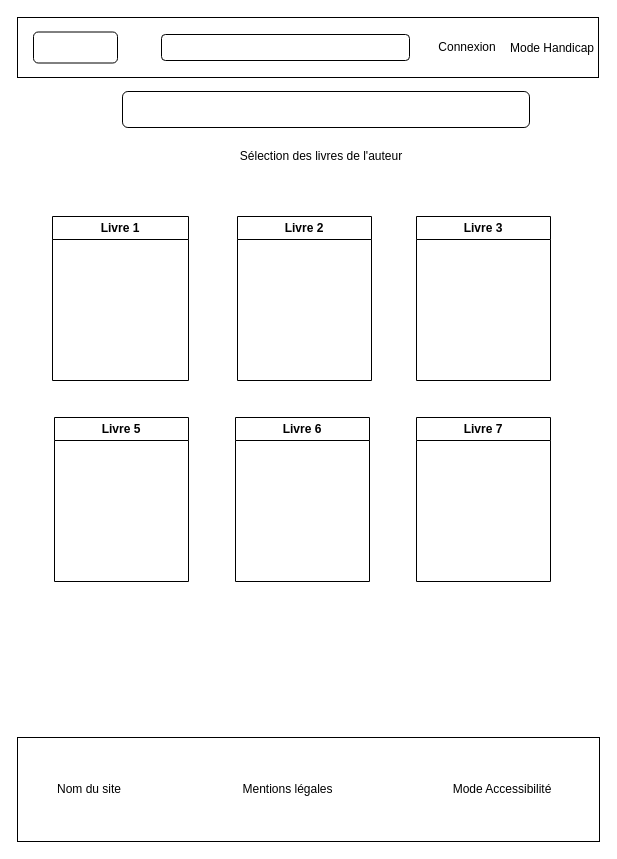
This 617x859 diagram has some shape labels left out. The box of each missing label's shape, as (x1, y1, x2, y2) in pixels:
Logo: (32, 31, 118, 63)
Moteur de recherche: (160, 34, 410, 60)
Nom de l'auteur: (122, 90, 530, 128)
